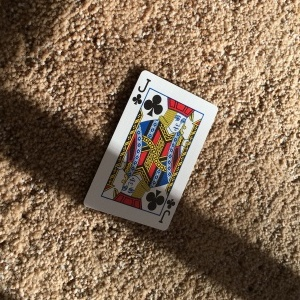card: (82, 69, 217, 231)
